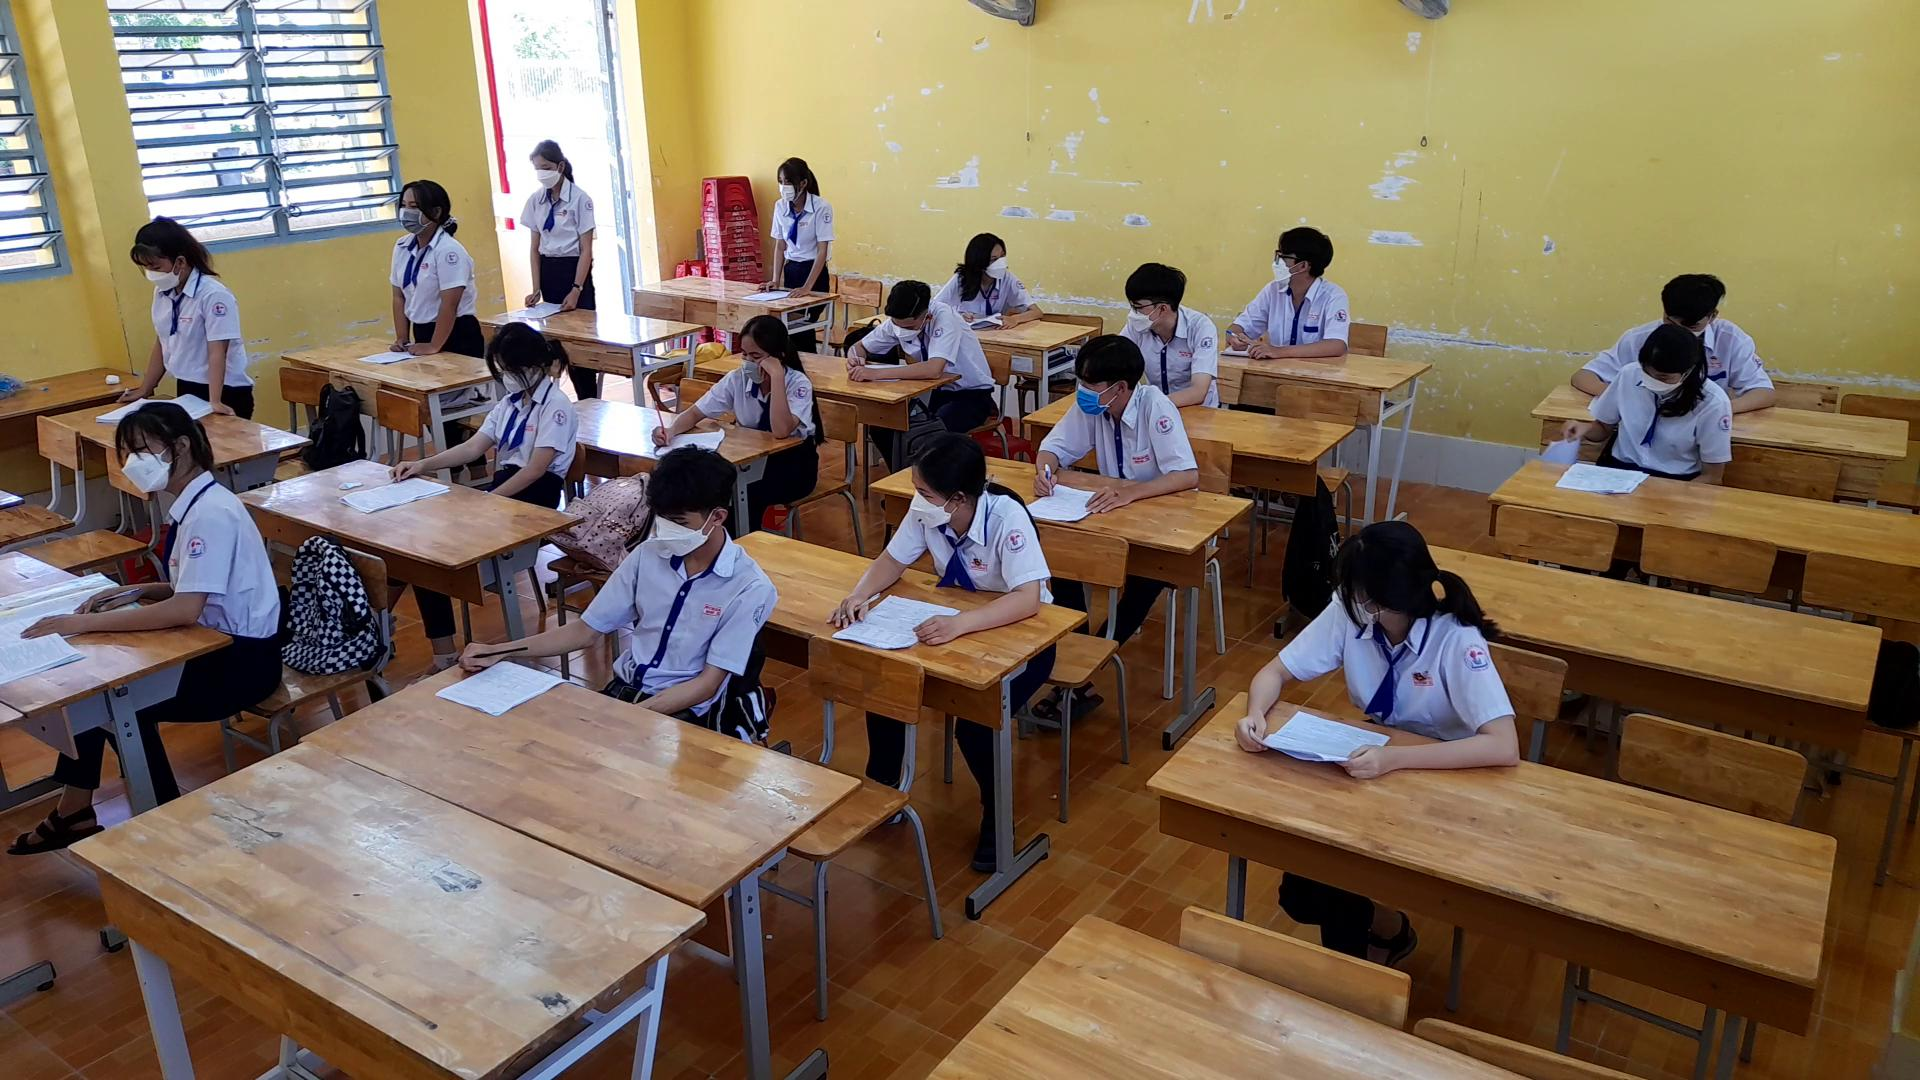Bend Over The Desk: (1623, 318, 1710, 396)
Hand Under Table: (637, 574, 775, 715), (484, 392, 574, 502), (1687, 396, 1735, 493)
Look Around: (1313, 510, 1447, 633), (1254, 214, 1335, 294), (945, 224, 1025, 293)
Normal: (36, 401, 281, 647), (822, 429, 1058, 644), (829, 272, 994, 392)
Stand Up: (123, 204, 255, 425), (367, 162, 498, 360), (497, 129, 603, 314), (753, 148, 835, 305)
Wave: (760, 347, 808, 447)
